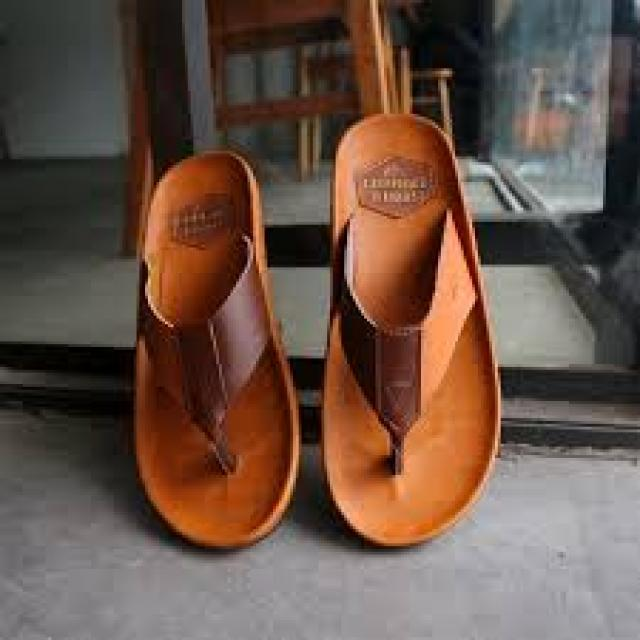Sandals: (52, 53, 567, 610)
